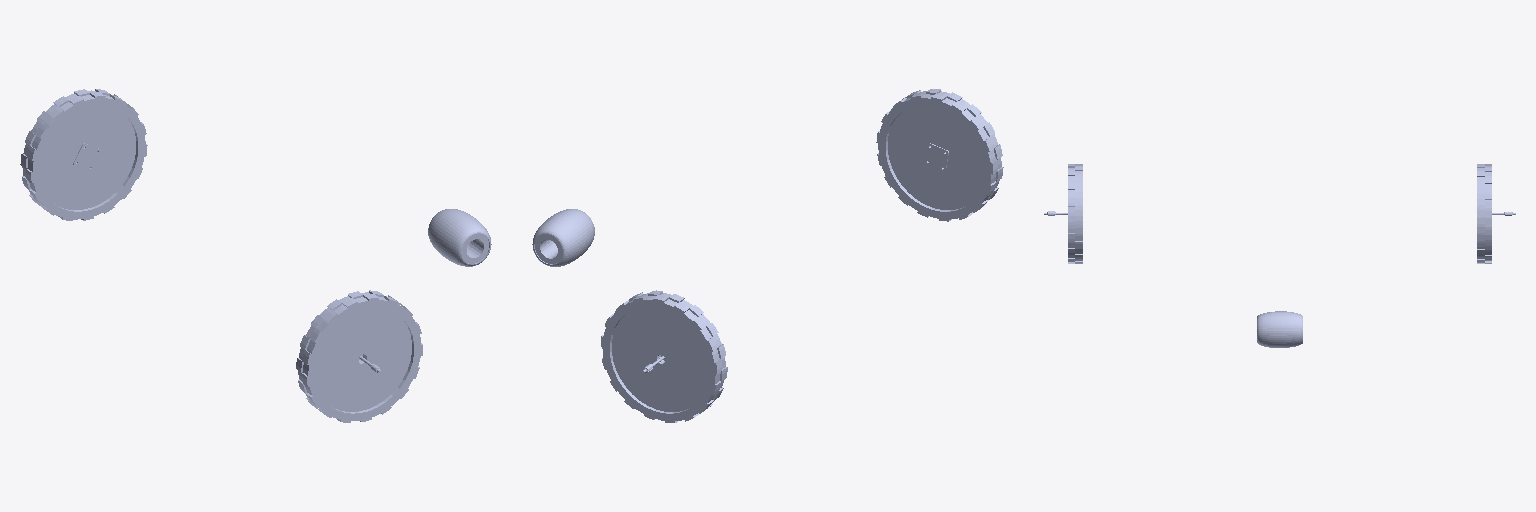
URDF robot description (robot):
<?xml version="1.0" encoding="utf-8"?>
<!-- This URDF was automatically created by SolidWorks to URDF Exporter! Originally created by [author] ([email redacted]) 
     Commit Version: 1.6.0-4-g7f85cfe  Build Version: 1.6.7995.38578
     For more information, please see http://wiki.ros.org/sw_urdf_exporter -->
<robot name="robot">


  <!-- Thêm base_footprint -->
  <link name="base_footprint">
    <inertial>
      <origin xyz="0 0 0" rpy="0 0 0"/>
      <mass value="0.001"/>
      <inertia ixx="0.0001" ixy="0" ixz="0" iyy="0.0001" iyz="0" izz="0.0001"/>
    </inertial>
  </link>

  <joint name="base_footprint_to_base_link" type="fixed">
    <origin xyz="0 0 0.01" rpy="0 0 0"/>
    <!-- base_footprint thấp hơn base_link 1cm -->
    <parent link="base_footprint"/>
    <child link="base_link"/>

  </joint>

  <link name="base_link">
    <inertial>
      <origin xyz="0.0215695152515472 -0.000328587130316308 0.050565571150473" rpy="0 0 0" />
      <mass value="3.09194293431158" />
      <inertia ixx="0.0231490717238727" ixy="-5.37537219262866E-05" ixz="0.000373686648336405" iyy="0.0130204980494664" iyz="5.42994609787083E-06" izz="0.0352905187406014" />
    </inertial>
    <visual>
      <origin xyz="0 0 0" rpy="0 0 0" />
      <geometry>
        <mesh filename="package://robot/meshes/base_link.STL" />
      </geometry>
      <material name="">
        <color rgba="0.792156862745098 0.819607843137255 0.933333333333333 1" />
      </material>
    </visual>
    <collision>
      <origin xyz="0 0 0" rpy="0 0 0" />
      <geometry>
        <mesh filename="package://robot/meshes/base_link.STL" />
      </geometry>
    </collision>
  </link>

  <!-- BANHDAHUONG_LINK -->
  <link name="Banhdahuong_link">
    <inertial>
      <origin xyz="-5.56455544407641E-05 7.02122885434808E-06 8.53335422783784E-05" rpy="0 0 0" />
      <mass value="0.1" />
      <inertia ixx="9.20819516763883E-07" ixy="3.12073828031739E-09" ixz="-8.67401367828414E-12" iyy="7.17989838752027E-07" iyz="3.45962932407375E-13" izz="9.20875189269629E-07" />
    </inertial>
    <visual>
      <origin xyz="0 0 0" rpy="0 0 0" />
      <geometry>
        <mesh filename="package://robot/meshes/Banhdahuong_link.STL" />
      </geometry>
      <material name="">
        <color rgba="0.792156862745098 0.819607843137255 0.933333333333333 1" />
      </material>
    </visual>
    <collision>
      <origin xyz="0 0 0" rpy="0 0 0" />
      <geometry>
        <mesh filename="package://robot/meshes/Banhdahuong_link.STL" />
      </geometry>
    </collision>
  </link>
  <joint name="Banhdahuong_joint" type="continuous">
    <origin xyz="0.13233 9.9869E-05 0.011166" rpy="0 0 0" />
    <parent link="base_link" />
    <child link="Banhdahuong_link" />
    <axis xyz="-0.015364 0.99988 0" />
  </joint>

  

  <!-- LIDAR_LINK -->
  <link name="Lidar_link">
    <inertial>
      <origin xyz="0.0101056978739759 0.000414595183128693 -0.0355014080835032" rpy="0 0 0" />
      <mass value="0.0941040901843603" />
      <inertia ixx="2.79091492195278E-05" ixy="-5.25179362037111E-08" ixz="-3.35339173907037E-07" iyy="4.4352692396792E-05" iyz="2.48697749463284E-08" izz="6.94753437602219E-05" />
    </inertial>
    <visual>
      <origin xyz="0 0 0" rpy="0 0 0" />
      <geometry>
        <mesh filename="package://robot/meshes/Lidar_link.STL" />
      </geometry>
      <material name="">
        <color rgba="0.792156862745098 0.819607843137255 0.933333333333333 1" />
      </material>
    </visual>
    <collision>
      <origin xyz="0 0 0" rpy="0 0 0" />
      <geometry>
        <mesh filename="package://robot/meshes/Lidar_link.STL" />
      </geometry>
    </collision>
  </link>
  <joint name="Lidar_joint" type="fixed">
    <origin xyz="-0.016395 -0.00015817 0.1378" rpy="0 0 0" />
    <parent link="base_link" />
    <child link="Lidar_link" />
    <axis xyz="0 0 0" />
  </joint>


  <!-- BANHPHAI_LINK -->
  <link name="Banhphai_link">
    <inertial>
      <origin xyz="-4.53667395212964E-08 -0.00502202789200742 3.22490651752383E-08" rpy="0 0 0" />
      <mass value="0.2" />
      <inertia ixx="6.56569251280724E-06" ixy="-1.31434017817046E-11" ixz="9.73665005891721E-13" iyy="1.2886210200016E-05" iyz="9.34302140636397E-12" izz="6.56569319038927E-06" />
    </inertial>
    <visual>
      <origin xyz="0 0 0" rpy="0 0 0" />
      <geometry>
        <mesh filename="package://robot/meshes/Banhphai_link.STL" />
      </geometry>
      <material name="">
        <color rgba="0.792156862745098 0.819607843137255 0.933333333333333 1" />
      </material>
    </visual>
    <collision>
      <origin xyz="0 0 0" rpy="0 0 0" />
      <geometry>
        <mesh filename="package://robot/meshes/Banhphai_link.STL" />
      </geometry>
    </collision>
  </link>
  <joint name="Banhphai_joint" type="continuous">
    <origin xyz="-0.00032385 -0.128 0.032493" rpy="0 0 0" />
    <parent link="base_link" />
    <child link="Banhphai_link" />
    <axis xyz="0 1 0" />
    <dynamics damping="1.0" friction="1"/>
    <limit effort="1000" velocity="100.0"/>
  </joint>

  <!-- BANHTRAI_LINK -->
  <link name="Banhtrai_link">
    <inertial>
      <origin xyz="-5.36683171219882E-08 0.00502202789200748 -1.47599118396208E-08" rpy="0 0 0" />
      <mass value="0.2" />
      <inertia ixx="6.56569196565971E-06" ixy="1.55484890731128E-11" ixz="-5.27177181681451E-13" iyy="1.2886210200016E-05" iyz="4.27616029738222E-12" izz="6.56569373753681E-06" />
    </inertial>
    <visual>
      <origin xyz="0 0 0" rpy="0 0 0" />
      <geometry>
        <mesh filename="package://robot/meshes/Banhtrai_link.STL" />
      </geometry>
      <material name="">
        <color rgba="0.792156862745098 0.819607843137255 0.933333333333333 1" />
      </material>
    </visual>
    <collision>
      <origin xyz="0 0 0" rpy="0 0 0" />
      <geometry>
        <mesh filename="package://robot/meshes/Banhtrai_link.STL" />
      </geometry>
    </collision>
  </link>
  <joint name="Banhtrai_joint" type="continuous">
    <origin xyz="-0.00032385 0.128 0.032493" rpy="0 0 0" />
    <parent link="base_link" />
    <child link="Banhtrai_link" />
    <axis xyz="0 1 0" />
    <dynamics damping="1.0" friction="1.0"/>
    <limit effort="1000" velocity="100.0"/>
  </joint>
  <!-- plugin -->
  <gazebo>
    <plugin name="diff_drive_controller" filename="libgazebo_ros_diff_drive.so">
      <rosDebugLevel>Info</rosDebugLevel>
      <commandTopic>cmd_vel</commandTopic>
      <odometryTopic>odom_combined</odometryTopic>
      <odometryFrame>odom_combined</odometryFrame>
      <robotBaseFrame>base_footprint</robotBaseFrame>
      <publishWheelTF>false</publishWheelTF>
      <publishOdomTF>true</publishOdomTF>
      <publishWheelJointState>true</publishWheelJointState>
      <wheelSeparation>0.256</wheelSeparation>
      <wheelDiameter>0.0655</wheelDiameter>
      <wheelAcceleration>10.0</wheelAcceleration>
      <wheelTorque>100.0</wheelTorque>
      <updateRate>50.0</updateRate>
      <leftJoint>Banhtrai_joint</leftJoint>
      <rightJoint>Banhphai_joint</rightJoint>
      <odometrySource>encoder</odometrySource>
      <publishTf>1</publishTf>
    </plugin>
  </gazebo>


  <!-- pluginlidar -->


  <gazebo reference="Lidar_link">
    <sensor type="ray" name="lidar_sensor">
      <pose>0 0 0 0 0 0</pose>
      <visualize>true</visualize>
      <update_rate>30</update_rate>
      <ray>
        <scan>
          <horizontal>
            <samples>720</samples>
            <resolution>1</resolution>
            <min_angle>-1.5708</min_angle>
            <max_angle>1.5708</max_angle>
          </horizontal>
        </scan>
        <range>
          <min>0.1</min>
          <max>10.0</max>
          <resolution>0.01</resolution>
        </range>
        <noise>
          <type>gaussian</type>
          <mean>0.0</mean>
          <stddev>0.01</stddev>
        </noise>
      </ray>
      <plugin name="gazebo_ros_laser" filename="libgazebo_ros_laser.so">
        <topicName>/base_scan</topicName>
        <frameName>Lidar_link</frameName>
      </plugin>
    </sensor>
  </gazebo>

<!-- //them he so ma sat -->
<gazebo reference="Banhphai_link">
  <mu1>1</mu1>
  <mu2>2</mu2>
  <kp>1000000.0</kp>
  <kd>1</kd>
  <material>Gazebo/Black</material>
</gazebo>

<gazebo reference="Banhtrai_link">
  <mu1>1</mu1>
  <mu2>2</mu2>
  <kp>1000000.0</kp>
  <kd>1</kd>
  <material>Gazebo/Black</material>
</gazebo>

<gazebo reference="Banhdahuong_link">
  <mu1>1</mu1>
  <mu2>2</mu2>
  <kp>1000000.0</kp>
  <kd>1</kd>
  <material>Gazebo/Black</material>
</gazebo>
<!-- them mau cho cac phan  -->
<gazebo reference="Lidar_link">
  <material>Gazebo/Blue</material>
</gazebo>
<gazebo reference="Base_link">
  <material>Gazebo/White</material>
</gazebo>
</robot>

--- Render facts (derived) ---
Views: 3 orthographic renders of the robot side by side, from view 1: azimuth 30°, elevation 25°; view 2: azimuth 150°, elevation 25°; view 3: azimuth 270°, elevation 25°.
Model robot with 6 links and 5 joints (3 continuous, 2 fixed), rooted at base_footprint, posed all joints at 0.
Links seen in each view (by area): view 1: Banhtrai_link, Banhphai_link, Banhdahuong_link; view 2: Banhphai_link, Banhtrai_link, Banhdahuong_link; view 3: Banhdahuong_link, Banhphai_link, Banhtrai_link.
Boxes of the visible links, bbox=[...] form: Banhtrai_link: bbox=[20, 89, 147, 220]; Banhphai_link: bbox=[296, 290, 422, 422]; Banhdahuong_link: bbox=[428, 209, 491, 266]; Banhphai_link: bbox=[876, 89, 1003, 221]; Banhtrai_link: bbox=[601, 290, 727, 422]; Banhdahuong_link: bbox=[532, 209, 594, 266]; Banhdahuong_link: bbox=[1257, 311, 1302, 347]; Banhphai_link: bbox=[1044, 164, 1082, 263]; Banhtrai_link: bbox=[1477, 164, 1515, 263].
Bounding box of the posed robot: 0.1771 × 0.306 × 0.0657 m (x, y, z).
Meshes: 5 distinct files referenced, 3 mesh visuals loaded (3 binary STL); not drawn: 2 (reference not matched to a file when rendering).
